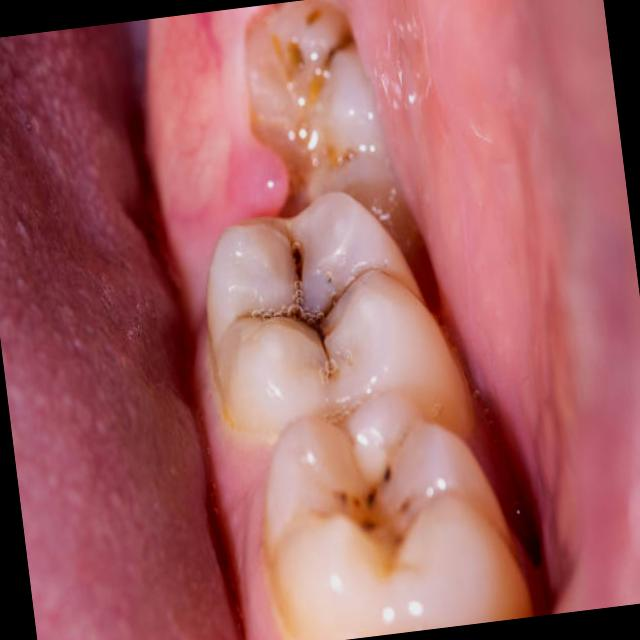caries: (240, 230, 360, 378)
